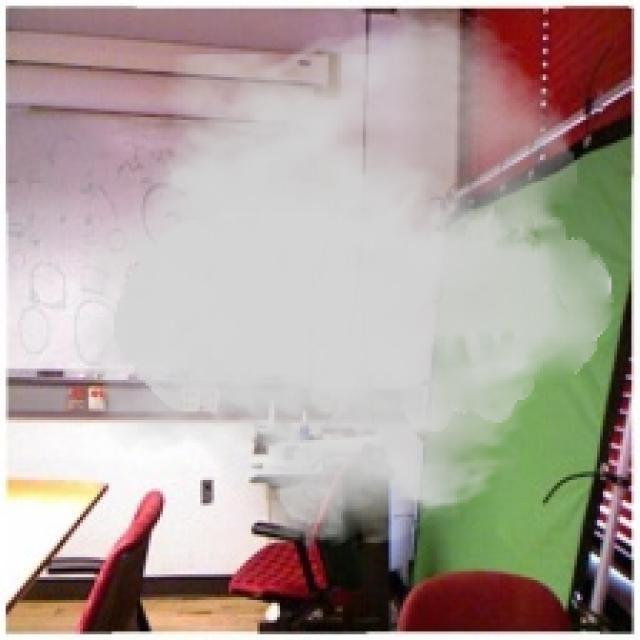Smoke: (57, 6, 614, 552)
